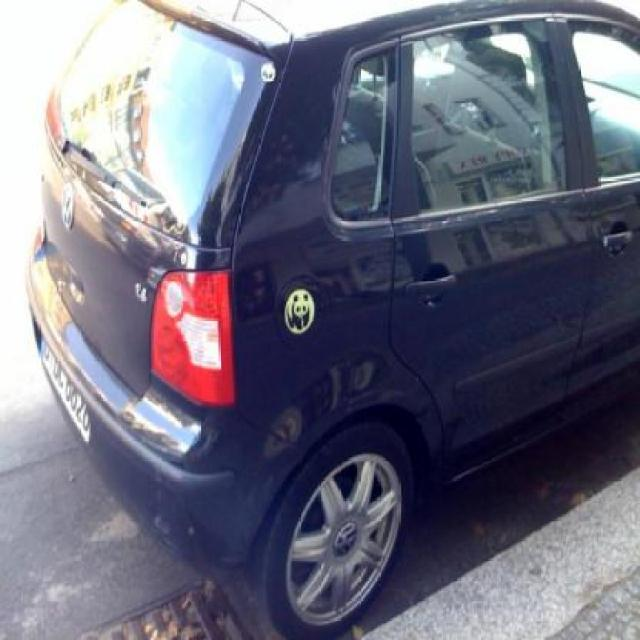License-Plates: (41, 336, 91, 442)
